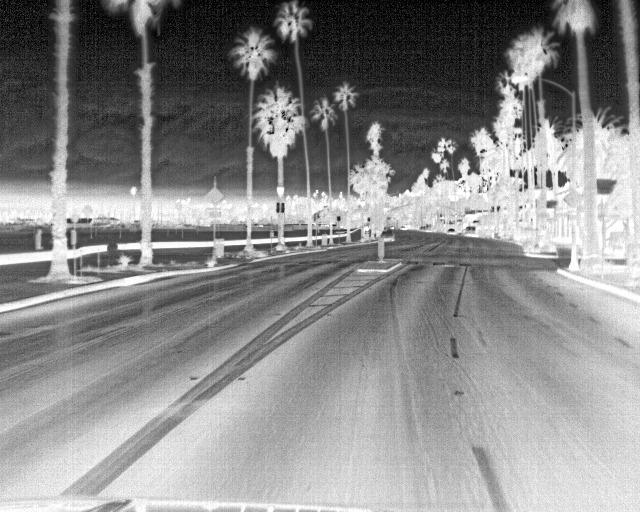car: (381, 226, 395, 242), (462, 224, 478, 238), (445, 227, 456, 236)
